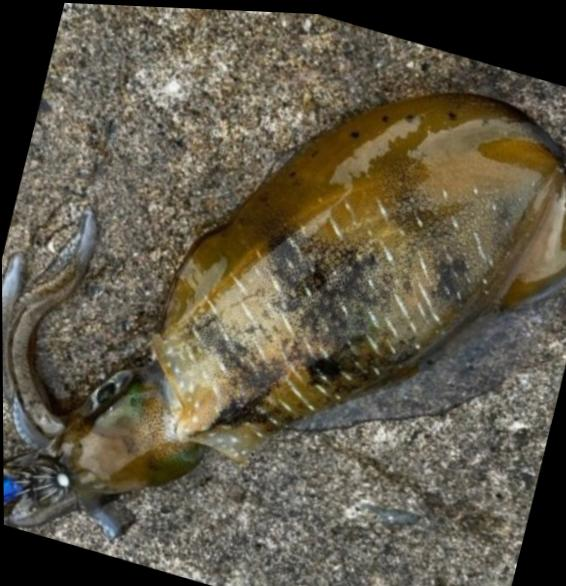Cephalopod: (2, 91, 566, 538)
